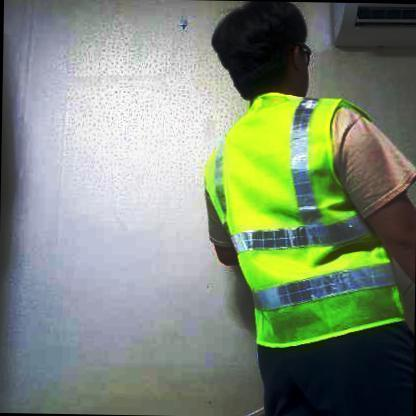no-helmet: (204, 0, 321, 78)
vest: (195, 87, 412, 355)
